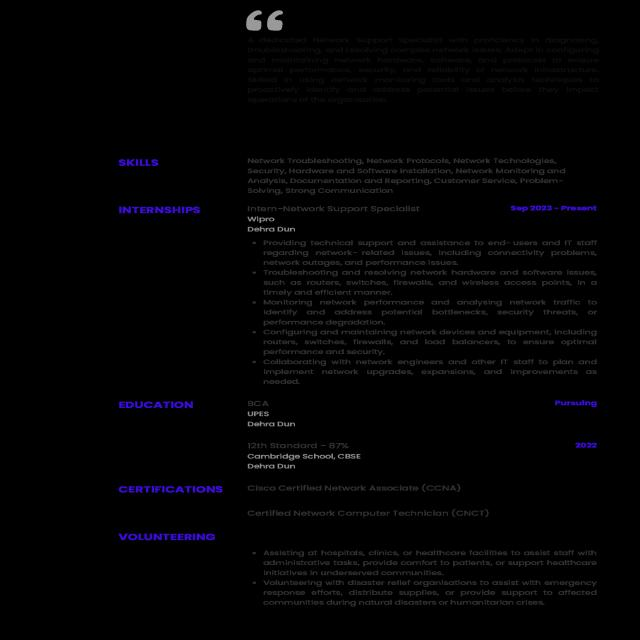education: (104, 394, 612, 476)
experience: (104, 203, 612, 388)
skills: (104, 150, 576, 199)
summary: (240, 34, 602, 105)
